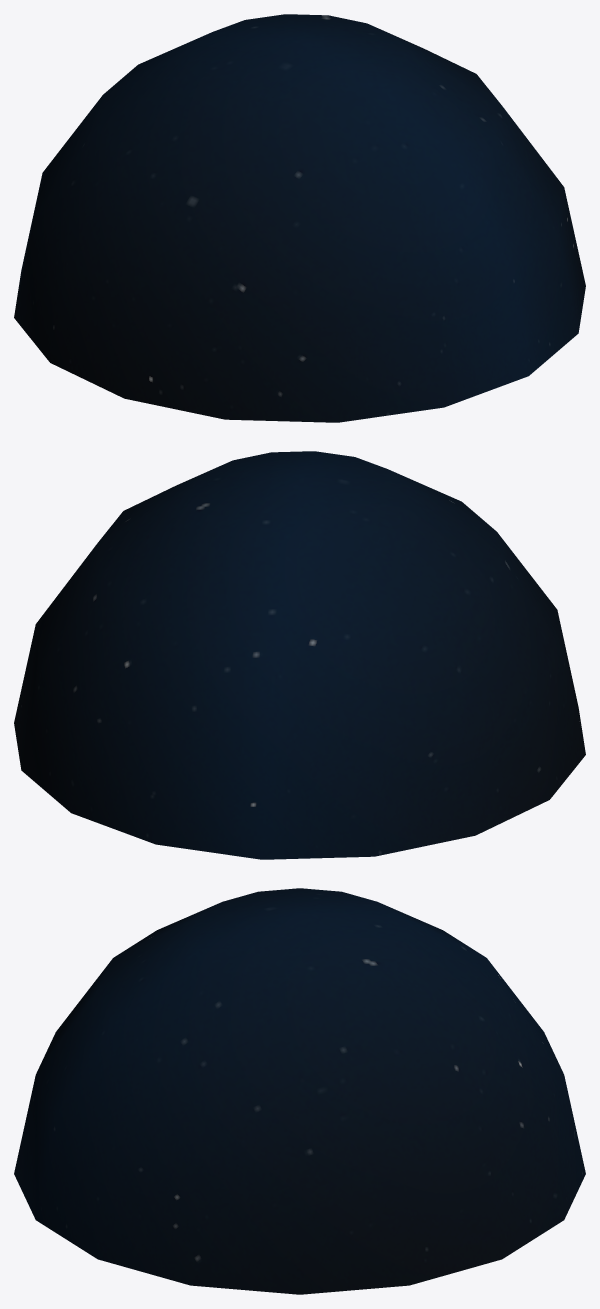
Rendered from Sky2.fbx.
The picture shows the model from 3 angles, top to bottom: view 1: azimuth 30°, elevation 25°; view 2: azimuth 150°, elevation 25°; view 3: azimuth 270°, elevation 25°; orthographic projection.
Parts seen in each view (by area): view 1: LV_AncientTower_Env_AstroSky_SM_KBE; view 2: LV_AncientTower_Env_AstroSky_SM_KBE; view 3: LV_AncientTower_Env_AstroSky_SM_KBE.
Boxes of the visible parts, x1=… form: LV_AncientTower_Env_AstroSky_SM_KBE: x1=14, y1=14, x2=585, y2=422; LV_AncientTower_Env_AstroSky_SM_KBE: x1=14, y1=451, x2=585, y2=859; LV_AncientTower_Env_AstroSky_SM_KBE: x1=14, y1=888, x2=585, y2=1294.
Size of the model in its own units: 16.07 by 8.04 by 16.07.
